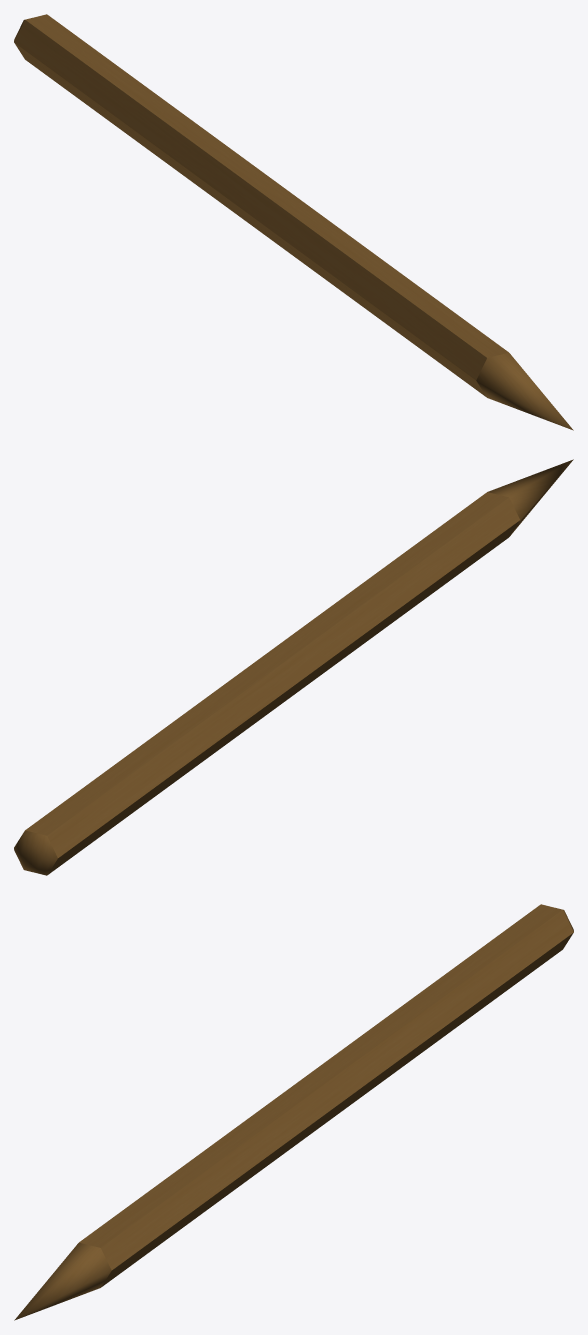
The model's file is enpitu.fbx.
3 renders of one model, top to bottom at view 1: azimuth 30°, elevation 25°; view 2: azimuth 150°, elevation 25°; view 3: azimuth 330°, elevation 25°, orthographic.
Visible parts, largest first — view 1: enpitu; view 2: enpitu; view 3: enpitu.
Part boxes in pixels (box(x1,y1,x2,y2)): enpitu: box(14, 14, 573, 430); enpitu: box(14, 459, 573, 875); enpitu: box(14, 904, 573, 1320).
Bounding box in the file's own units: 11.01 × 9.54 × 235.
Materials: 1 (1 with a texture image).
